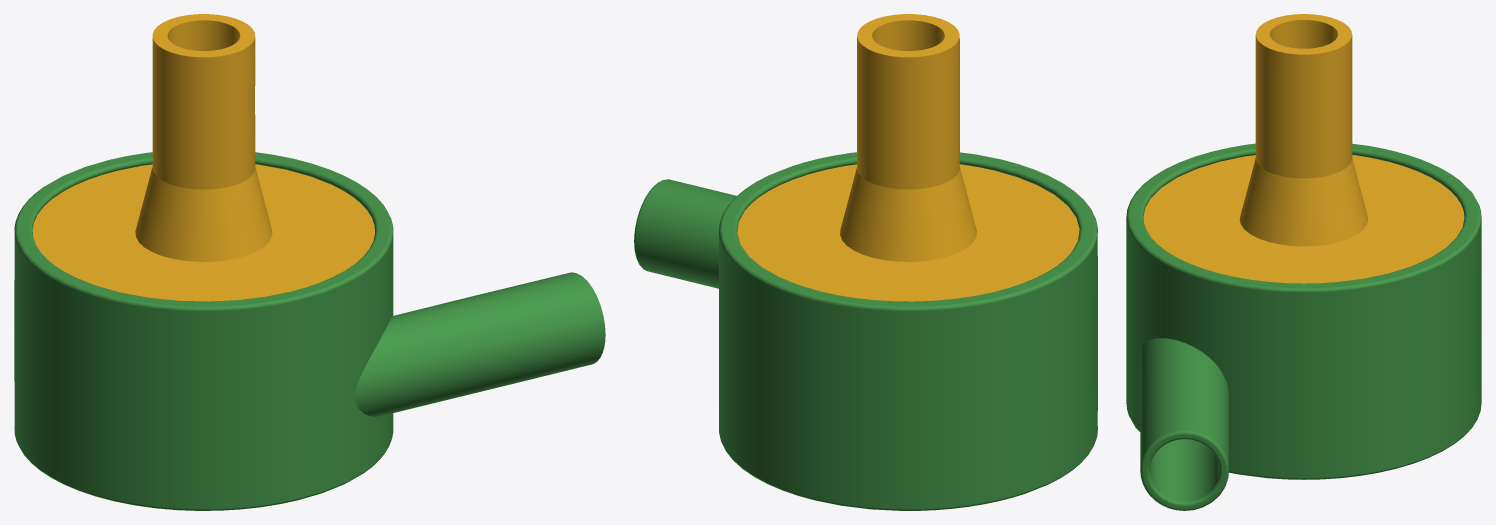
The picture shows the model from 3 angles, left to right: view 1: azimuth 30°, elevation 25°; view 2: azimuth 150°, elevation 25°; view 3: azimuth 270°, elevation 25°; orthographic projection. The views are drawn at different scales.
Parts seen in each view (by area): view 1: Body1, Body3; view 2: Body1, Body3; view 3: Body1, Body3.
Part boxes in pixels (left/top/right/bottom): Body1: left=14, top=152, right=605, bottom=510; Body3: left=32, top=14, right=374, bottom=301; Body1: left=634, top=152, right=1097, bottom=510; Body3: left=737, top=14, right=1079, bottom=301; Body1: left=1126, top=143, right=1481, bottom=510; Body3: left=1143, top=14, right=1464, bottom=283.
Bounding box in the file's own units: 76 × 60.5 × 52.
